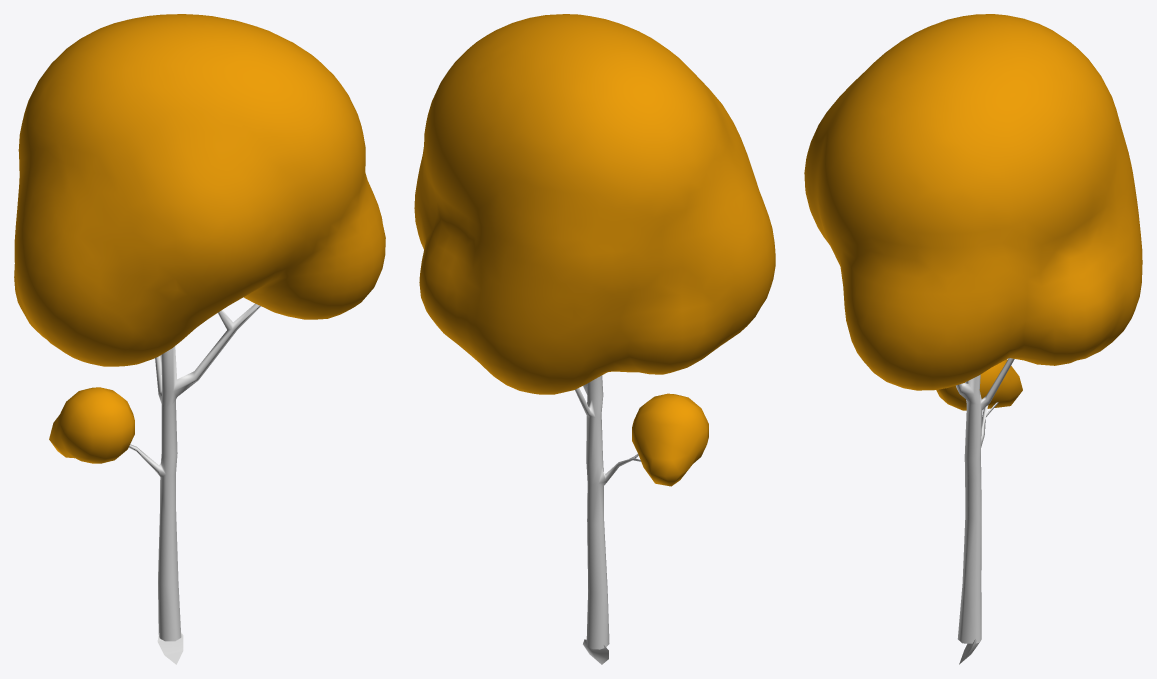
File: tree_flat.glb
3 renders of one model, left to right at view 1: azimuth 30°, elevation 25°; view 2: azimuth 150°, elevation 25°; view 3: azimuth 270°, elevation 25°, orthographic.
Parts seen in each view (by area): view 1: Leaves, Pole; view 2: Leaves, Pole; view 3: Leaves, Pole.
Boxes of the visible parts, x1=… form: Leaves: x1=14, y1=14, x2=385, y2=463; Pole: x1=128, y1=303, x2=260, y2=641; Leaves: x1=414, y1=14, x2=775, y2=486; Pole: x1=575, y1=375, x2=641, y2=649; Leaves: x1=804, y1=14, x2=1142, y2=410; Pole: x1=956, y1=358, x2=1014, y2=643.
Bounding box in the file's own units: 2.64 × 4.73 × 2.28.
